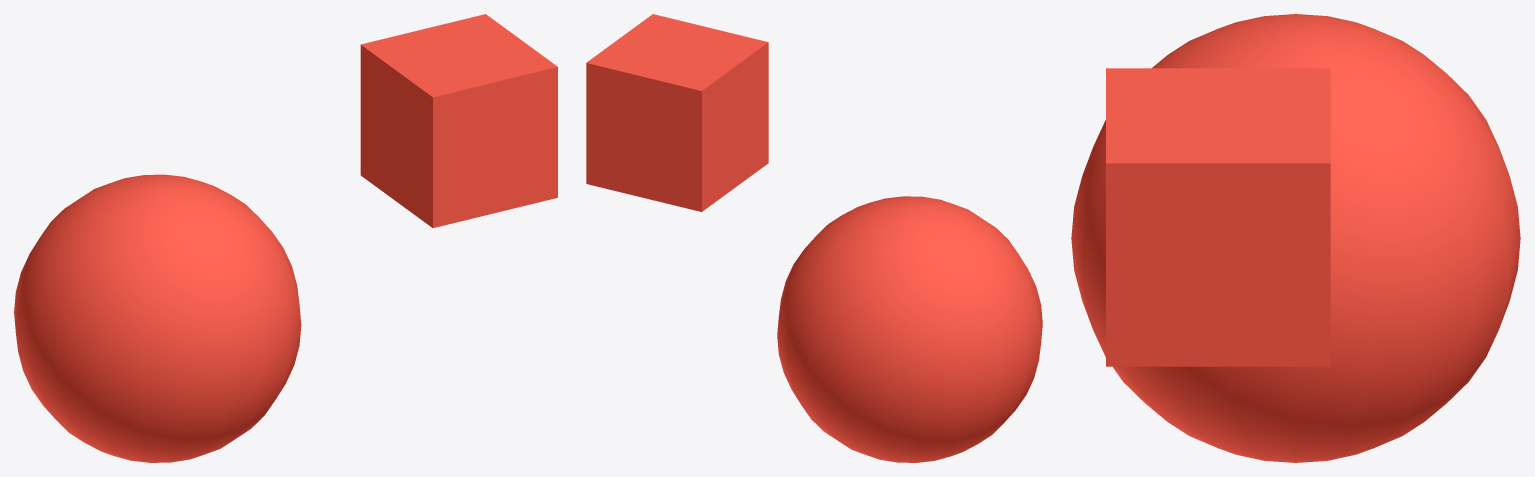
The model's file is testModel.fbx.
The picture shows the model from 3 angles, left to right: view 1: azimuth 30°, elevation 25°; view 2: azimuth 150°, elevation 25°; view 3: azimuth 270°, elevation 25°; orthographic projection. The views are drawn at different scales.
Visible parts, largest first — view 1: pSphere2; view 2: pSphere2; view 3: pSphere2.
Boxes of the visible parts, x1,y1,x2,y2 form: pSphere2: (14, 14, 557, 462); pSphere2: (586, 14, 1042, 462); pSphere2: (1071, 14, 1520, 462).
Size of the model in its own units: 3.71 by 2.63 by 2.
